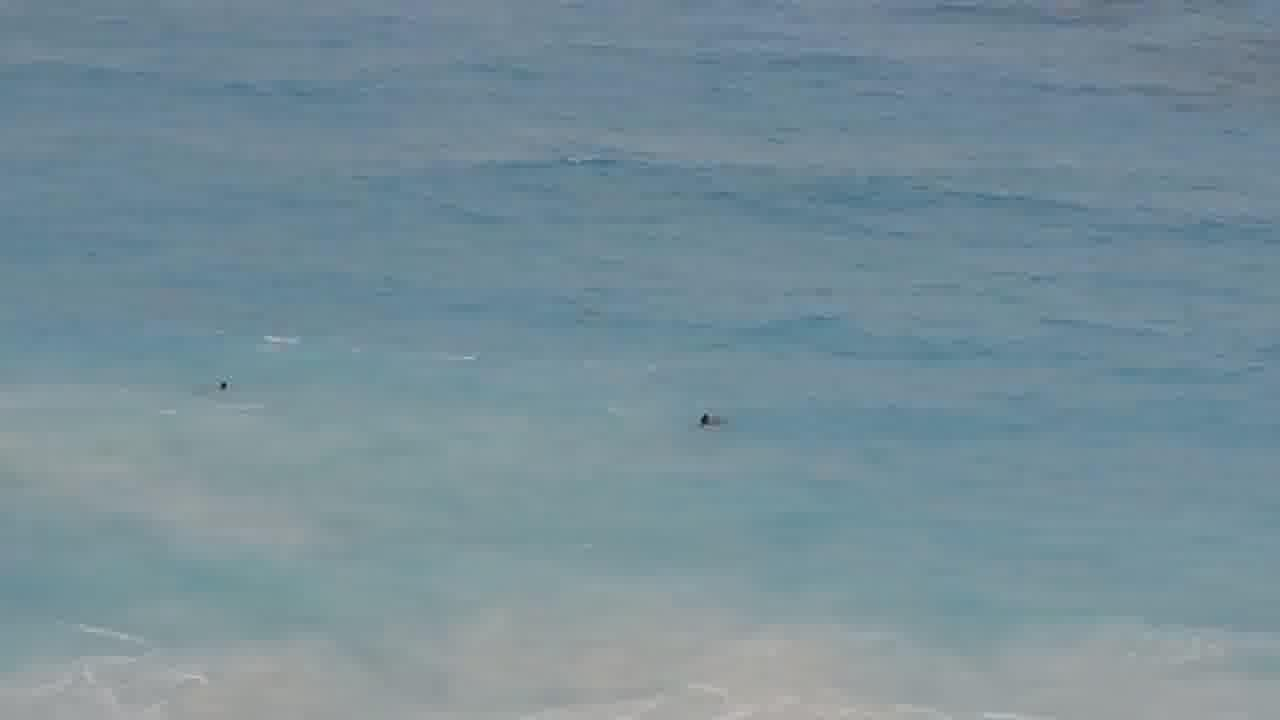human: (203, 365, 247, 405), (683, 403, 732, 437)
